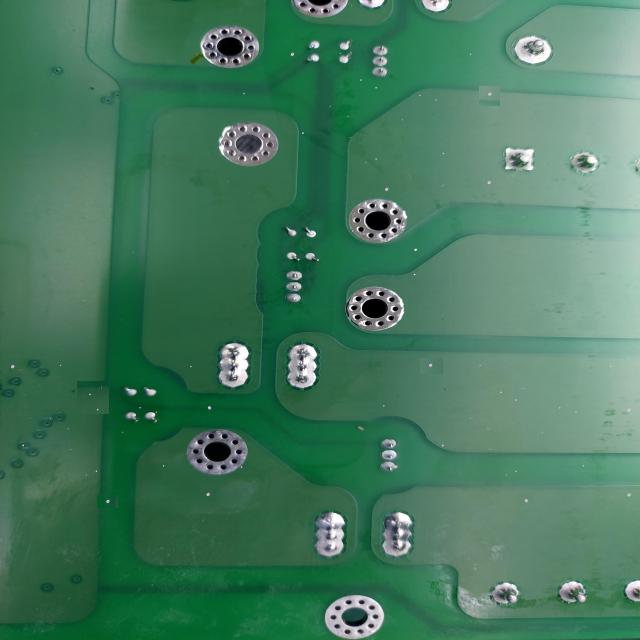spillover: (77, 381, 109, 414), (479, 86, 500, 106), (420, 358, 443, 374), (200, 402, 223, 416), (96, 494, 118, 508), (201, 486, 217, 502), (520, 493, 535, 509), (379, 184, 394, 194)
